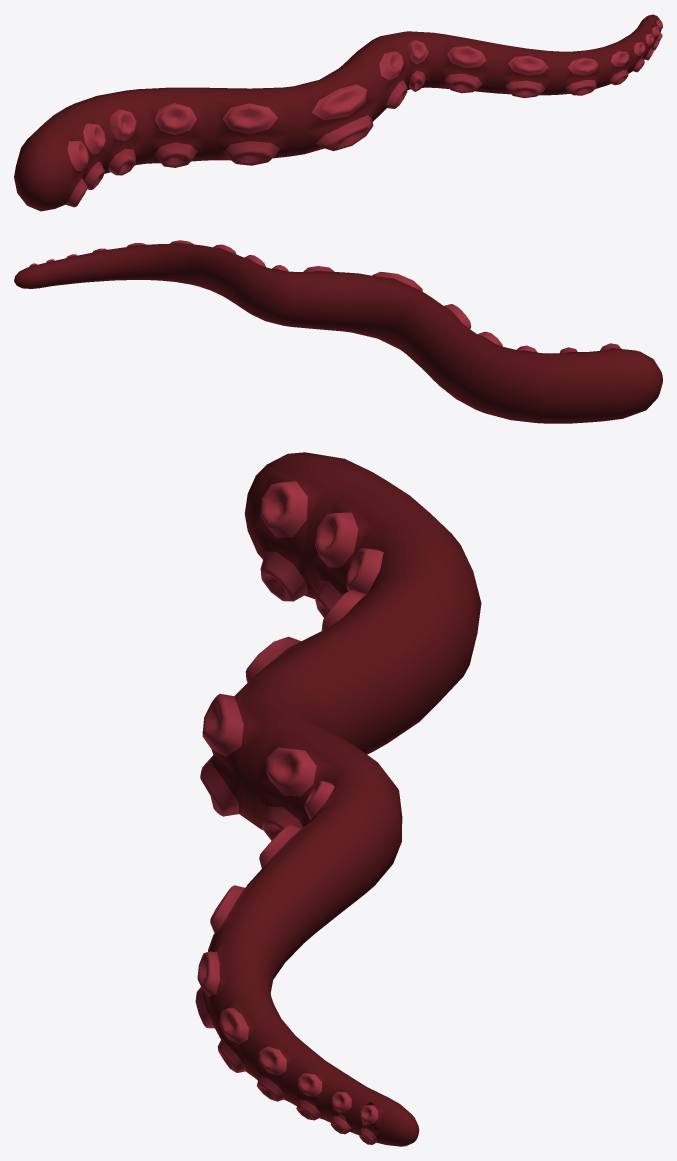
File: Pata de pulpo.fbx
The picture shows the model from 3 angles, top to bottom: view 1: azimuth 30°, elevation 25°; view 2: azimuth 150°, elevation 25°; view 3: azimuth 270°, elevation 25°; orthographic projection. The views are drawn at different scales.
Visible parts, largest first — view 1: Pata de pulpo; view 2: Pata de pulpo; view 3: Pata de pulpo.
Boxes of the visible parts, <box> form: Pata de pulpo: <box>14,14,662,211</box>; Pata de pulpo: <box>14,240,662,423</box>; Pata de pulpo: <box>195,452,481,1146</box>.
Bounding box in the file's own units: 16.78 × 1.93 × 3.37.
